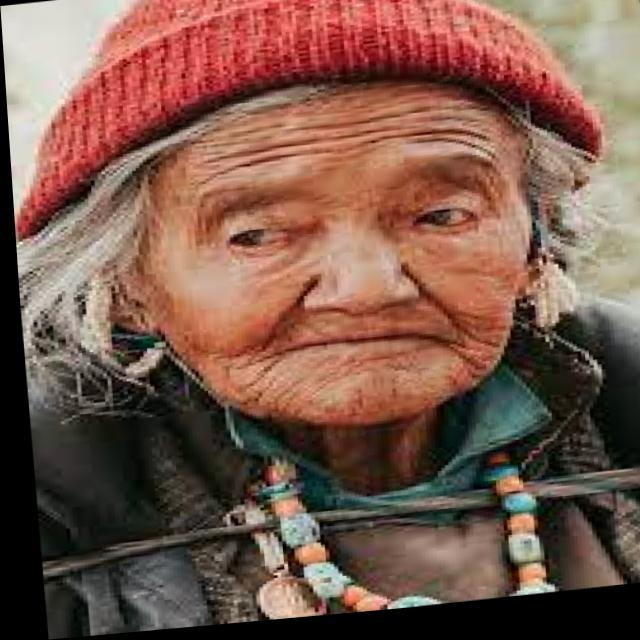Wrinkles: (169, 111, 504, 189), (221, 349, 309, 412), (435, 315, 500, 383)
